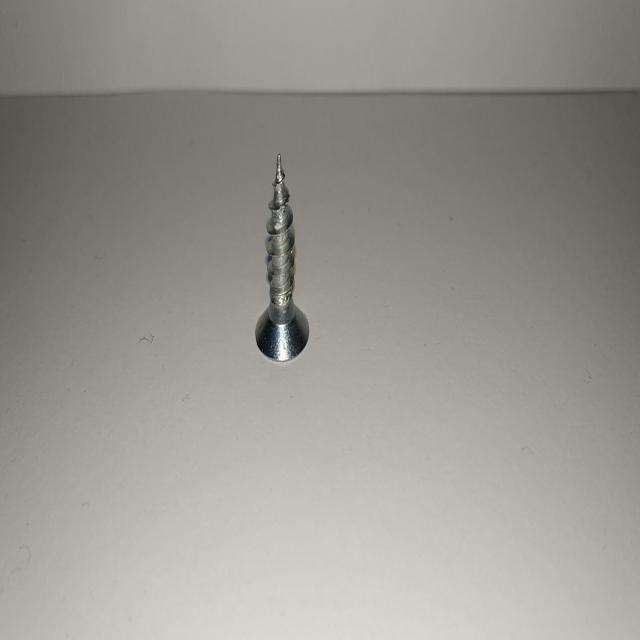Screw: (255, 152, 309, 361)
